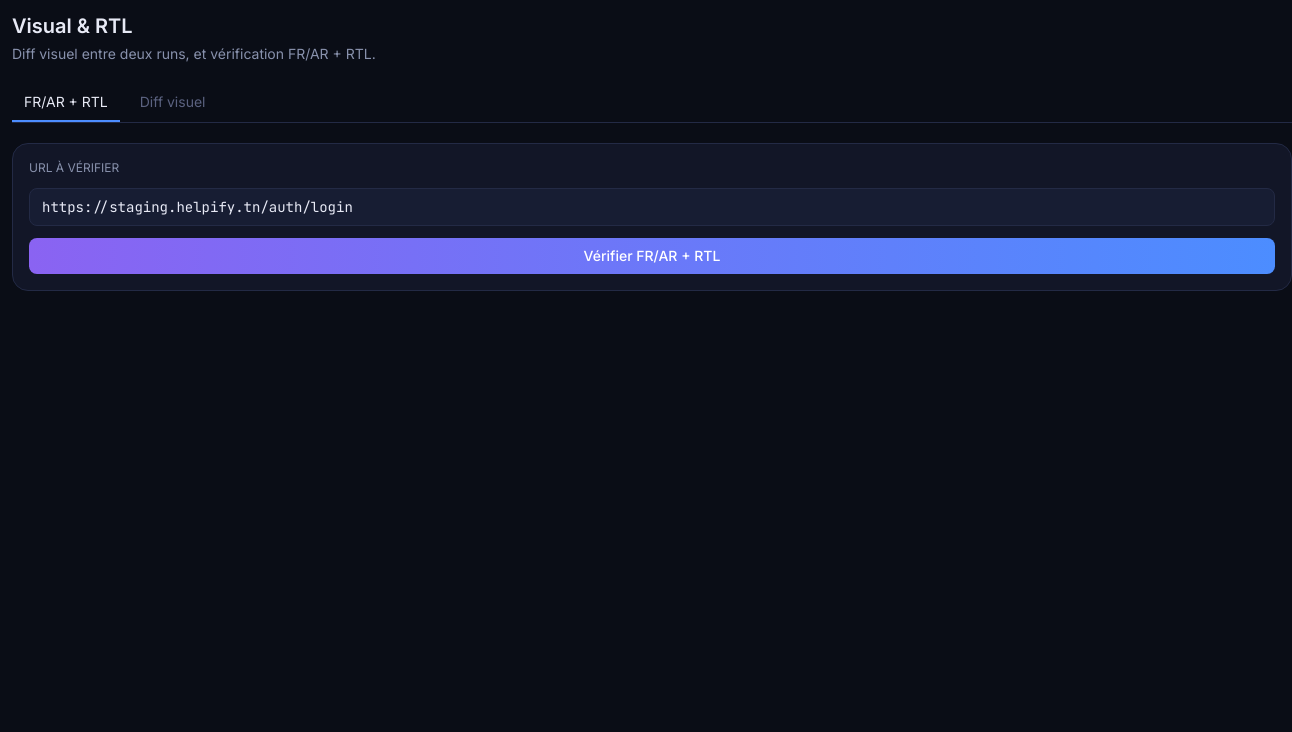
Visual/RTL : onglet diff visuel › aucune étape comparable : écart affiché par un tiret
Click the button "Diff visuel". click: (173, 103)
box: [128,84,218,122]
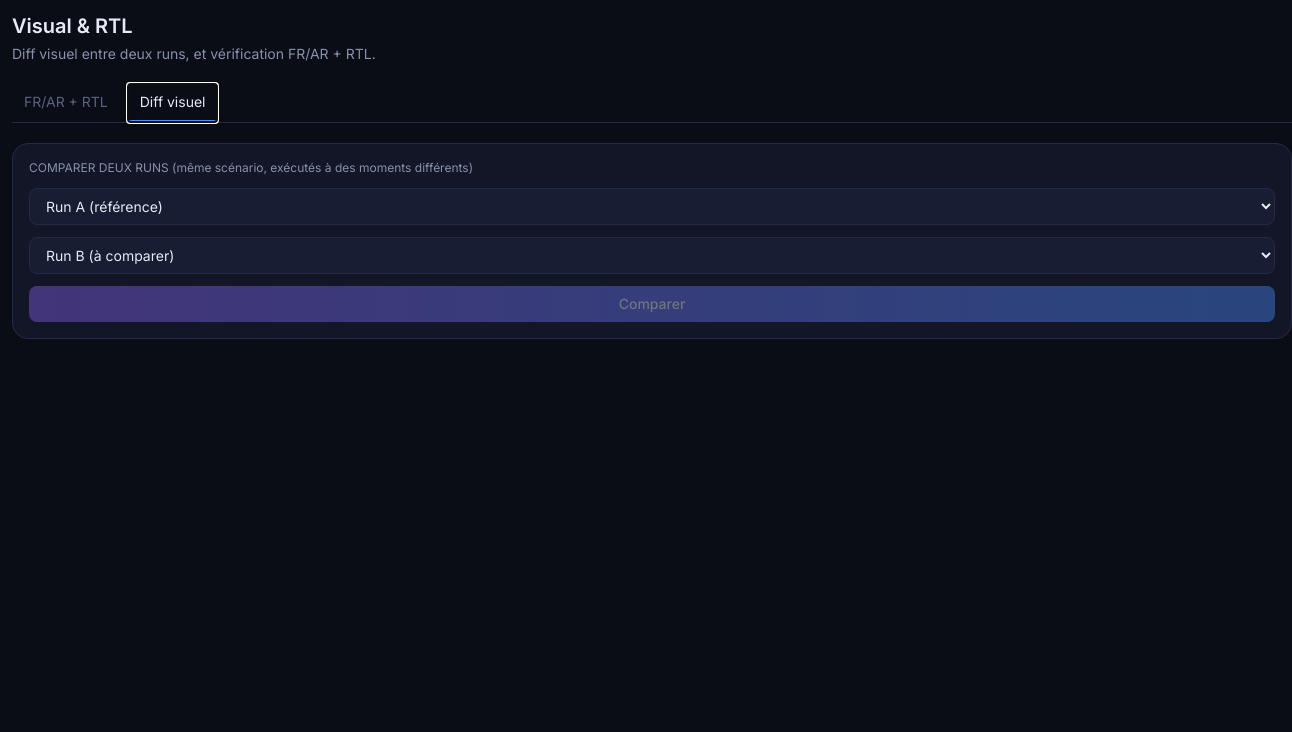
Select "#1 — Connexion" in the 1st dropdown. click: (652, 206)
box: [29,188,1275,225]
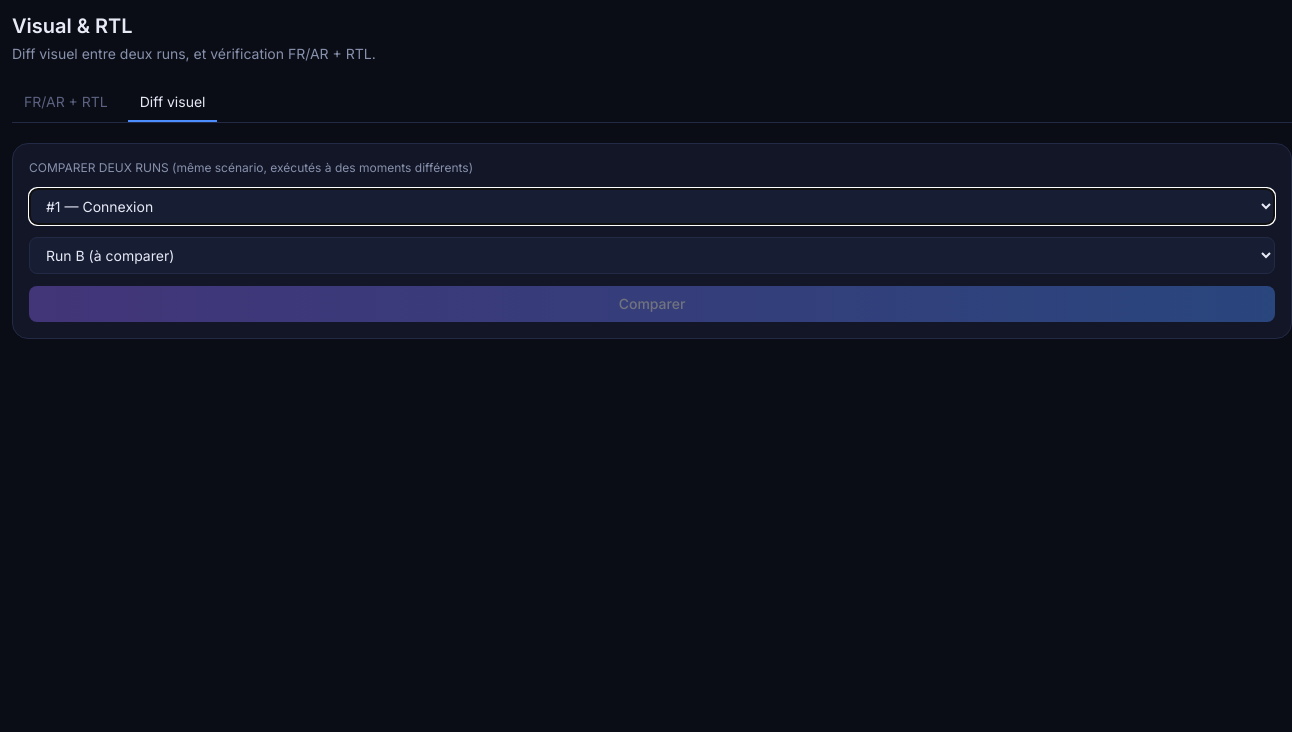
Select "#2 — Connexion" in the 2nd dropdown. click: (652, 256)
box: [29,237,1275,274]
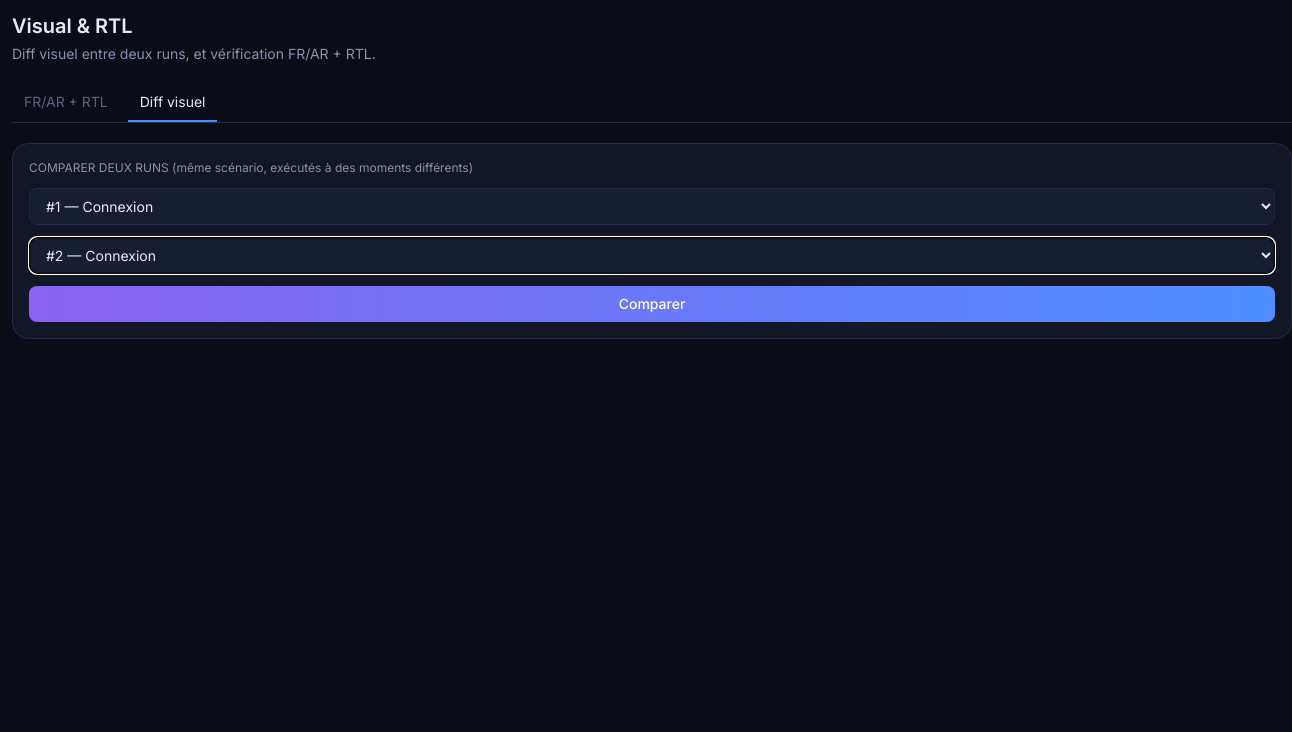
Click the button "Comparer". click: (652, 304)
box: [29,286,1275,322]
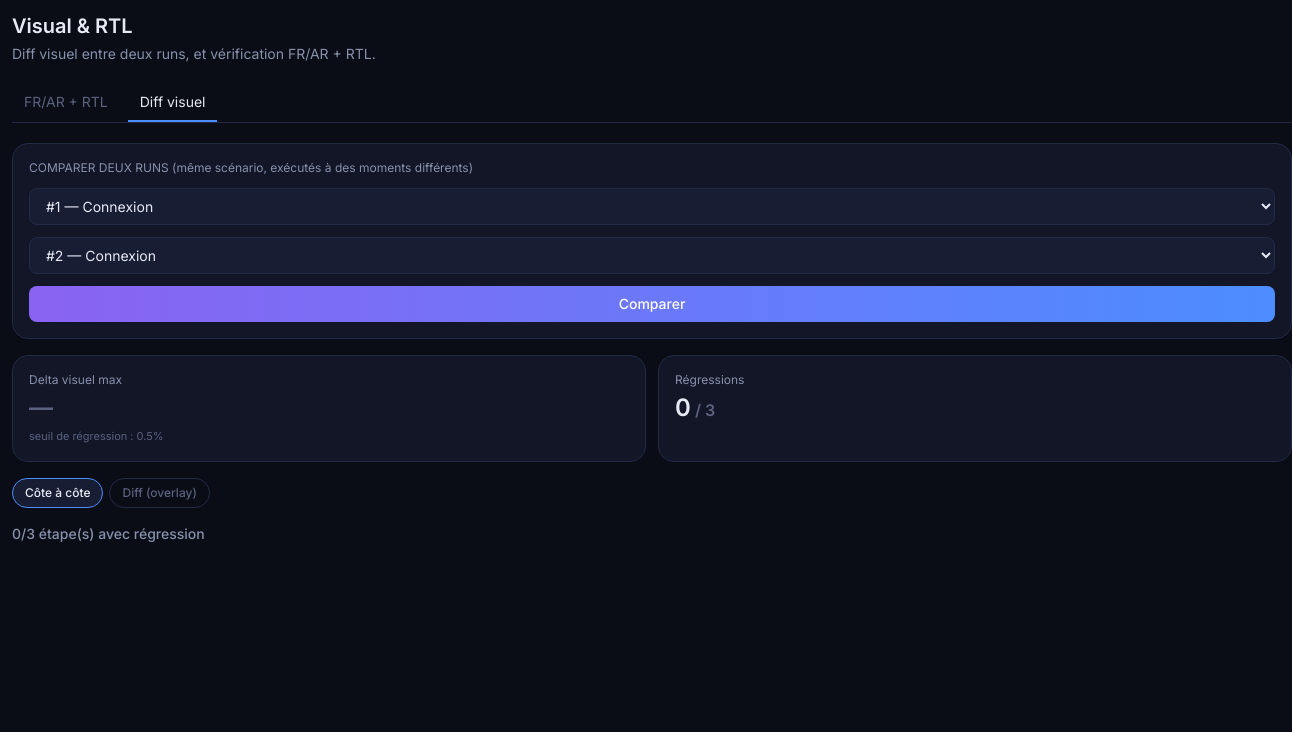
Result: the text "—" is shown at [29,393,53,422]
